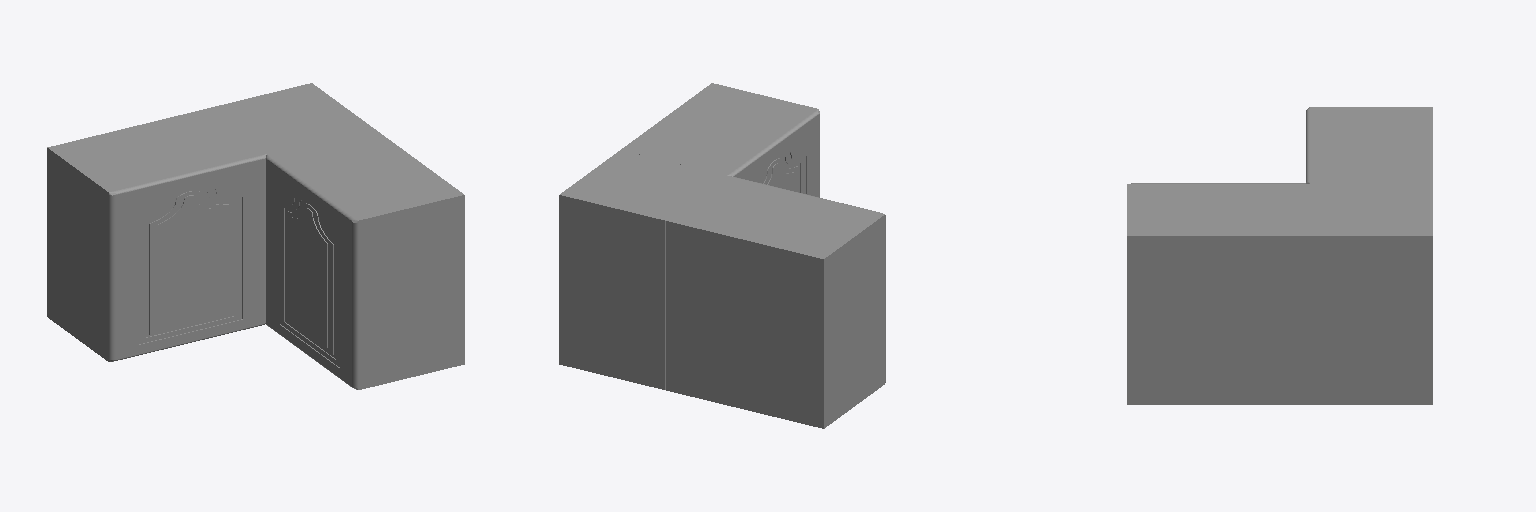
Rendered from corner-base-unit-850.obj.
3 views of the same model, side by side, from view 1: azimuth 30°, elevation 25°; view 2: azimuth 150°, elevation 25°; view 3: azimuth 270°, elevation 25° (orthographic).
Visible parts, largest first — view 1: Cube.003_Cube.008, Cube.005, Cube.004_Cube.000, Cube.002_Cube.004, Cube_Cube.002, Cube.001, Cube.006; view 2: Cube_Cube.002, Cube.006, Cube.002_Cube.004, Cube.001, Cube.004_Cube.000; view 3: Cube.001, Cube.006, Cube_Cube.002, Cube.005.
Boxes of the visible parts, box(x1,y1,x2,y2) form: Cube.003_Cube.008: box(109, 154, 266, 361); Cube.005: box(357, 194, 464, 389); Cube.004_Cube.000: box(266, 154, 358, 389); Cube.002_Cube.004: box(47, 147, 110, 361); Cube_Cube.002: box(51, 109, 266, 191); Cube.001: box(268, 128, 462, 218); Cube.006: box(207, 83, 372, 153); Cube_Cube.002: box(666, 176, 880, 427); Cube.006: box(559, 150, 725, 389); Cube.002_Cube.004: box(821, 214, 884, 428); Cube.001: box(621, 84, 815, 175); Cube.004_Cube.000: box(727, 109, 819, 197); Cube.001: box(1130, 184, 1309, 404); Cube.006: box(1310, 184, 1432, 404); Cube_Cube.002: box(1310, 108, 1432, 183); Cube.005: box(1127, 184, 1129, 404).
Size of the model in its own units: 284 by 174 by 284.